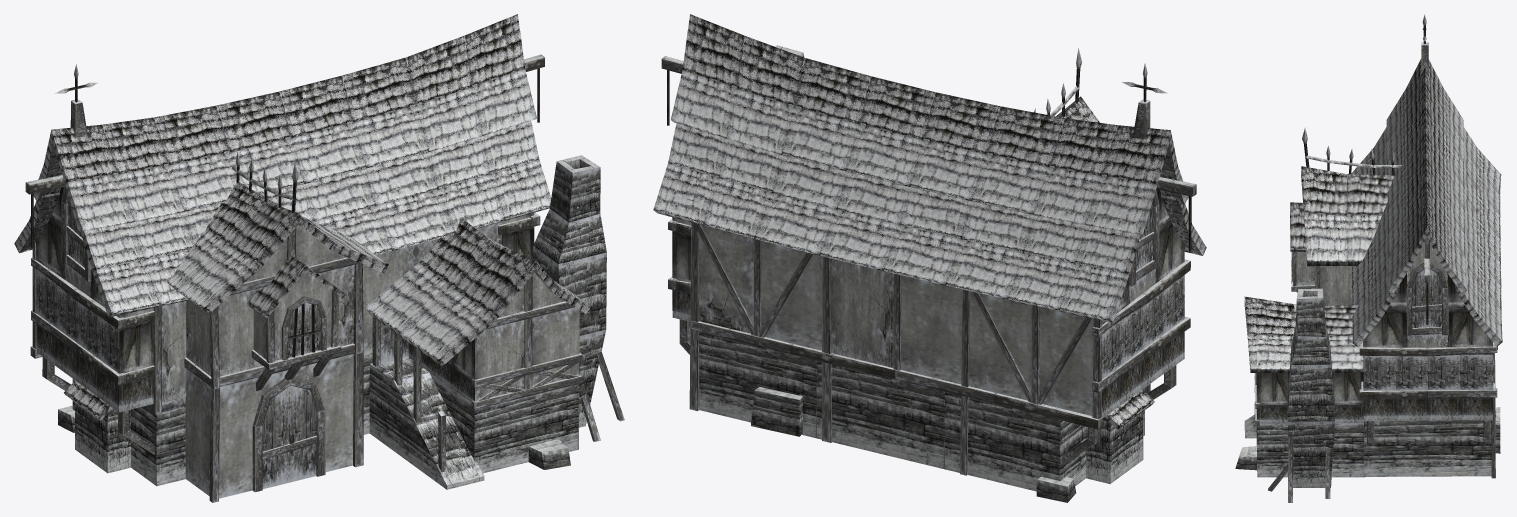
File: S_Build_Snowland001.FBX
3 views of the same model, side by side, from view 1: azimuth 30°, elevation 25°; view 2: azimuth 150°, elevation 25°; view 3: azimuth 270°, elevation 25° (orthographic). The views are drawn at different scales.
Visible parts, largest first — view 1: S_Build_Snowland001; view 2: S_Build_Snowland001; view 3: S_Build_Snowland001.
Boxes of the visible parts, left/top/right/bottom form: S_Build_Snowland001: left=14, top=14, right=624, bottom=502; S_Build_Snowland001: left=653, top=14, right=1206, bottom=502; S_Build_Snowland001: left=1235, top=14, right=1502, bottom=502.
Size of the model in its own units: 1431 by 824 by 1078.
